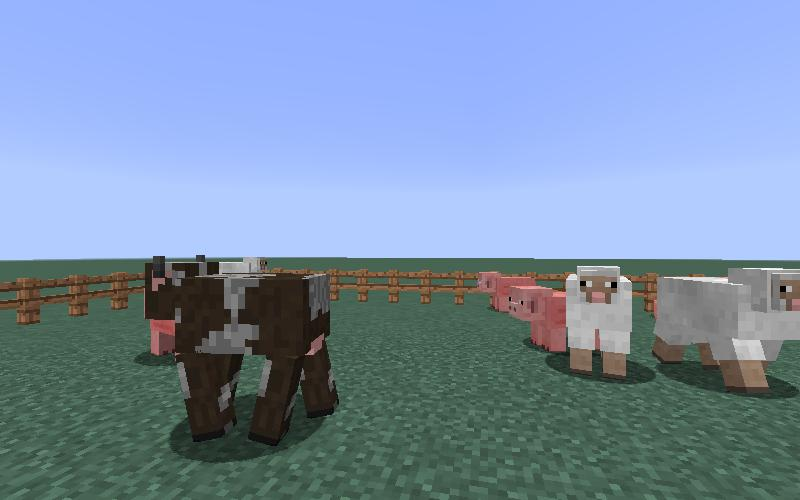cow: (141, 253, 341, 449)
pig: (508, 285, 568, 353), (477, 271, 537, 310)
sheep: (650, 260, 800, 401), (560, 258, 640, 382)
